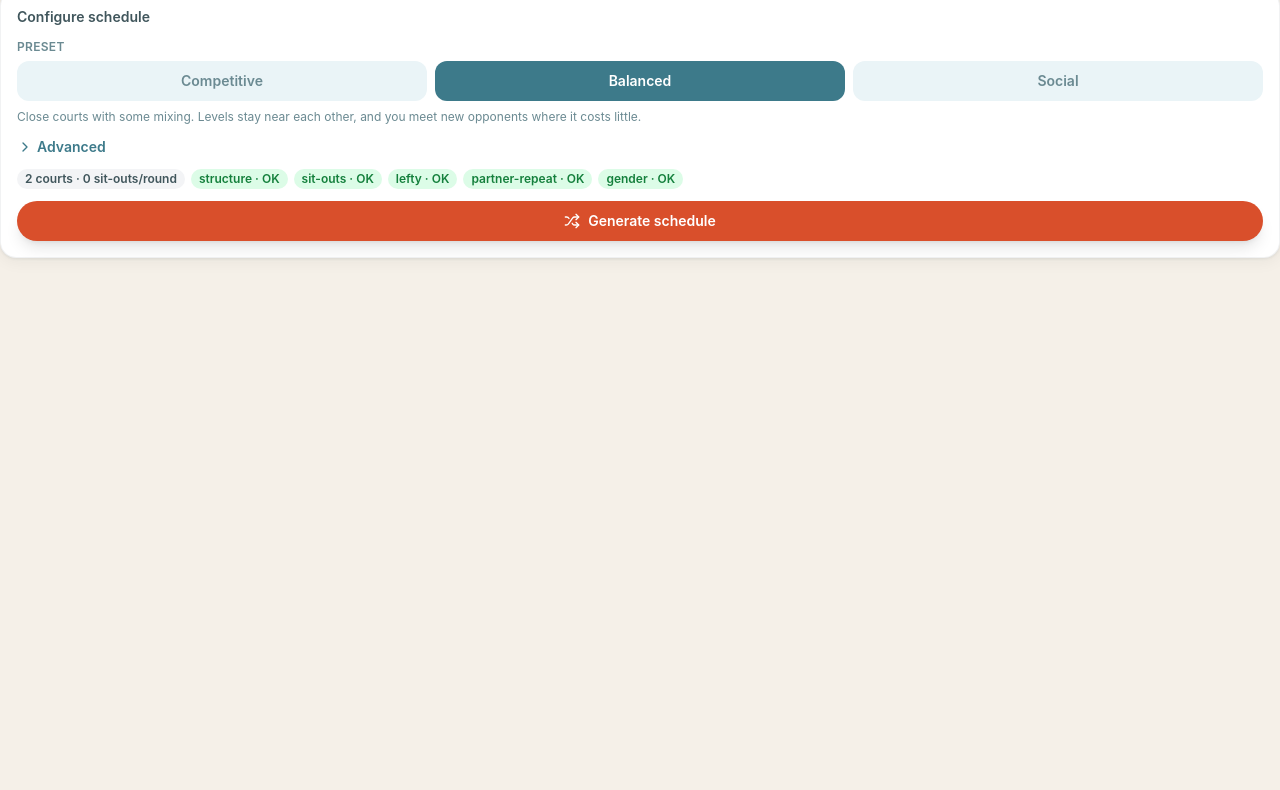
MatchmakingContainer — generate feedback (M3.6 Finding 4) › shows the schedule and scrolls it into view after generating
Click the button "Generate schedule" at (640, 221), box x1=17 y1=201 x2=1263 y2=241
(page scrolled)
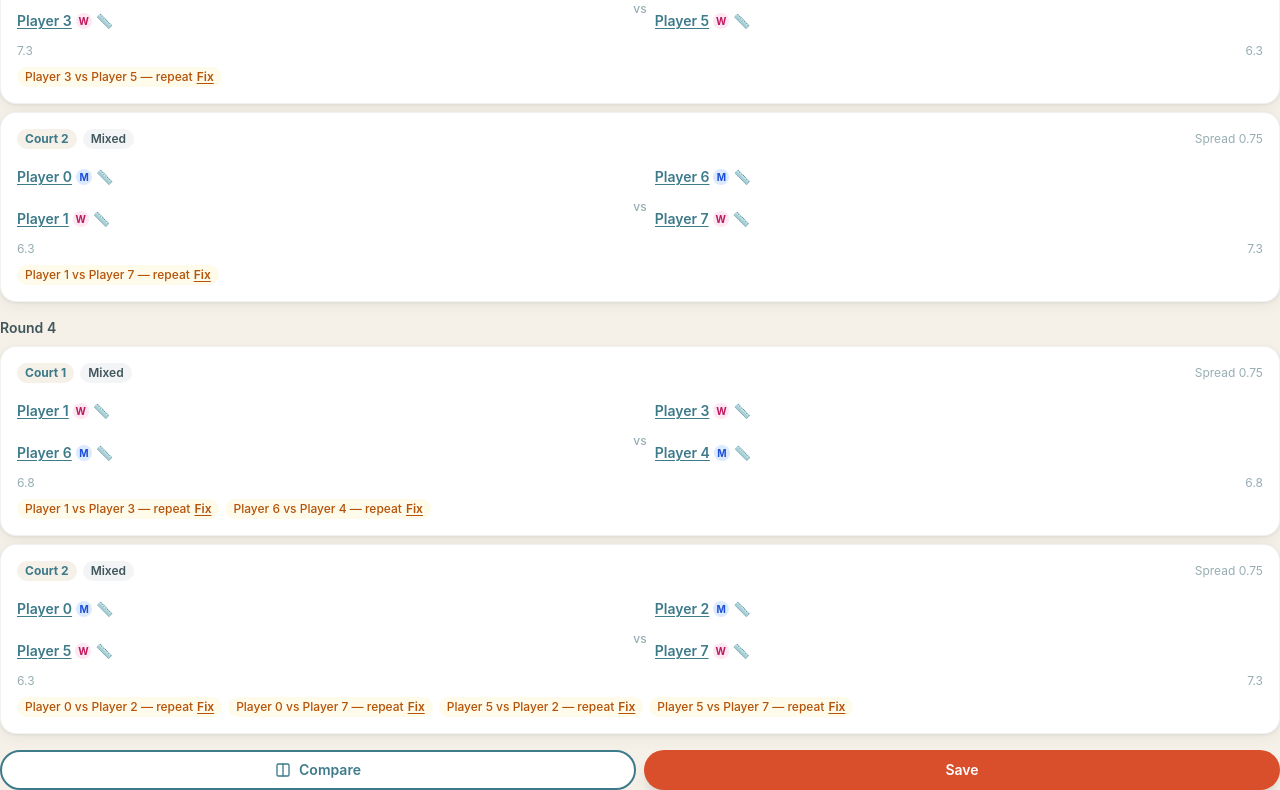
Expected: the button "Compare" is shown, x1=0 y1=750 x2=636 y2=789
